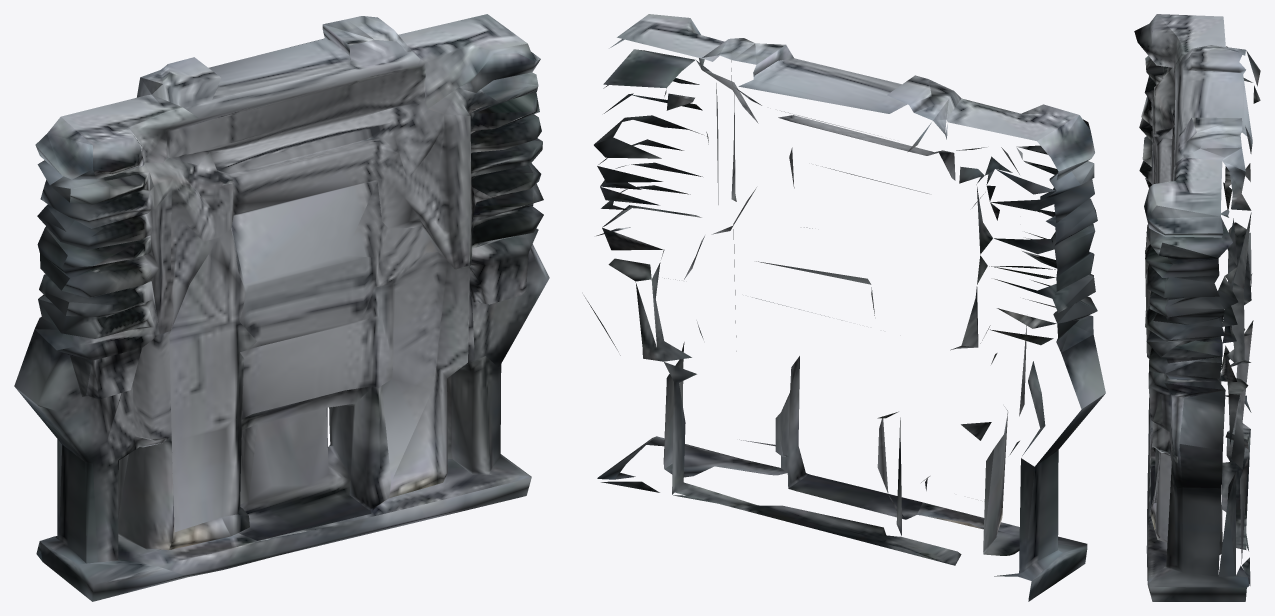
Rendered from hangar_wall_panel_c.glb.
3 renders of one model, left to right at view 1: azimuth 30°, elevation 25°; view 2: azimuth 150°, elevation 25°; view 3: azimuth 270°, elevation 25°, orthographic. The views are drawn at different scales.
Visible parts, largest first — view 1: hangar_wall_panel_c; view 2: hangar_wall_panel_c; view 3: hangar_wall_panel_c.
Part boxes in pixels (box(x1,y1,x2,y2)): hangar_wall_panel_c: box(14, 14, 549, 601); hangar_wall_panel_c: box(584, 14, 1105, 601); hangar_wall_panel_c: box(1134, 14, 1260, 601).
Size of the model in its own units: 0.0913 by 0.0816 by 0.0221.
1 material, 1 textured.
